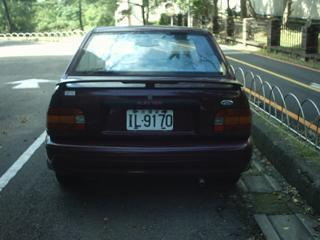plate: (124, 106, 175, 133)
